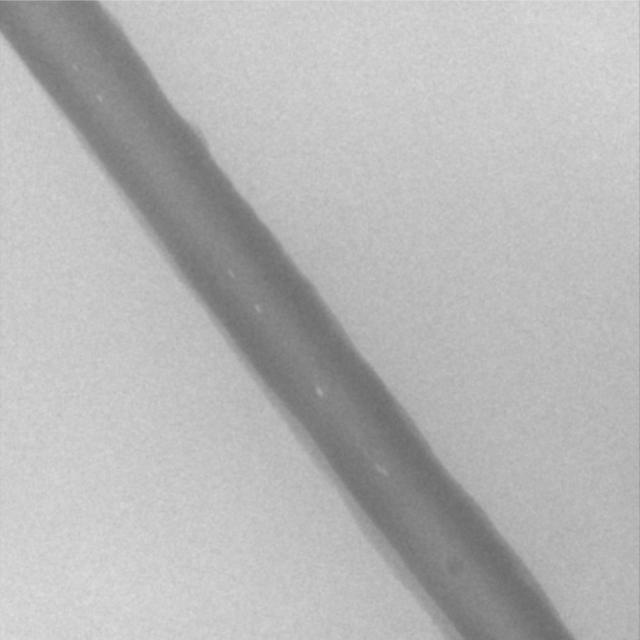air hole: (226, 267, 236, 278), (253, 302, 262, 314), (315, 386, 323, 398)
